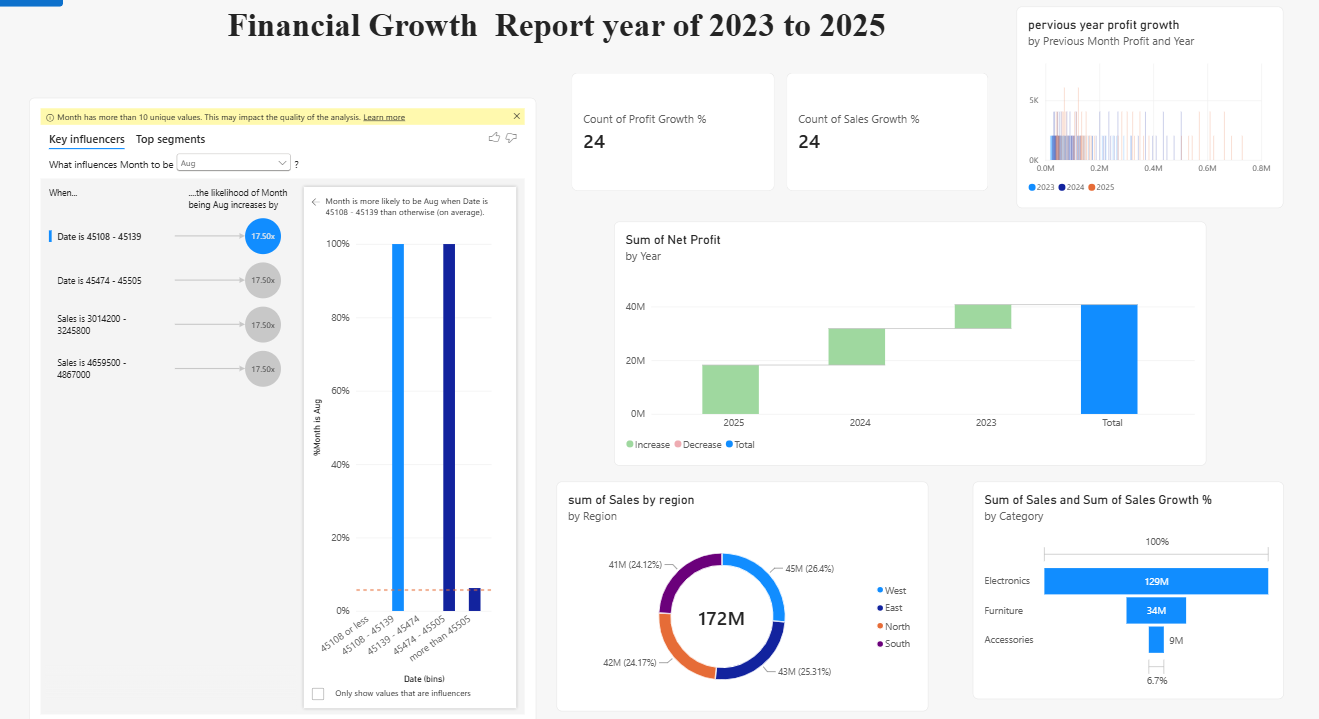

The dashboard page shown, as its layout file describes it:
{"tool":"powerbi","page":{"name":"Page 1","canvas":[1920,1080],"ordinal":0},"visuals":[{"type":"actionButton","box":[0,0,100,40],"z":2},{"type":"donutChart","fields":{"Category":["Sales Details.Region"],"Y":["Sum(Sales Details.Sales)"]},"box":[813.5,726.9,538.5,332.7],"z":3},{"type":"funnel","fields":{"Category":["Sales Details.Category","Sales Details.Product Name"],"Y":["Sum(Sales Details.Sales)"]},"box":[1417.3,726.9,450,315.4],"z":4},{"type":"keyDriversVisual","fields":{"ExplainBy":["Sales Details.Date","Monthly Financials.Sales","Sum(Sales Details.Sales)","CountNonNull(Sales Details.Date)"],"Target":["Sales Details.Month"]},"box":[50,171.2,734.6,909.6],"z":5},{"type":"waterfallChart","fields":{"Category":["Sales Details.Year","Sales Details.Month"],"Y":["Sum(Sales Details.Net Profit)"]},"box":[897.6,351.1,857.7,353.8],"z":6},{"type":"cardVisual","fields":{"Data":["CountNonNull(Monthly Financials.Profit Growth %)"]},"box":[836.5,136.5,294.2,171.2],"z":7},{"type":"cardVisual","fields":{"Data":["CountNonNull(Monthly Financials.Sales Growth %)"]},"box":[1148.1,136.5,292.3,171.2],"z":8},{"type":"textbox","box":[100,40.4,1340.4,96.2],"z":10},{"type":"clusteredColumnChart","fields":{"Category":["Sales Details.Previous Month Profit"],"Series":["Sales Details.Year"],"Y":["Sum(Sales Details.Year)"]},"box":[1480.8,40.4,386.5,292.3],"z":11}]}

Visuals, with their boxes on the page's 1920x1080 design canvas (x1, y1, x2, y2). These are canvas units, not pixel positions in the 1319x719 screenshot, which may show the page scaled, cropped or inside an application window:
actionButton: bbox=[0, 0, 100, 40]
donutChart - Sales Details.Region x Sum(Sales Details.Sales): bbox=[814, 727, 1352, 1060]
funnel - Sales Details.Category x Sales Details.Product Name: bbox=[1417, 727, 1867, 1042]
keyDriversVisual - Sales Details.Date x Monthly Financials.Sales: bbox=[50, 171, 785, 1081]
waterfallChart - Sales Details.Year x Sales Details.Month: bbox=[898, 351, 1755, 705]
cardVisual - CountNonNull(Monthly Financials.Profit Growth %): bbox=[836, 136, 1131, 308]
cardVisual - CountNonNull(Monthly Financials.Sales Growth %): bbox=[1148, 136, 1440, 308]
textbox: bbox=[100, 40, 1440, 137]
clusteredColumnChart - Sales Details.Previous Month Profit x Sales Details.Year: bbox=[1481, 40, 1867, 333]
